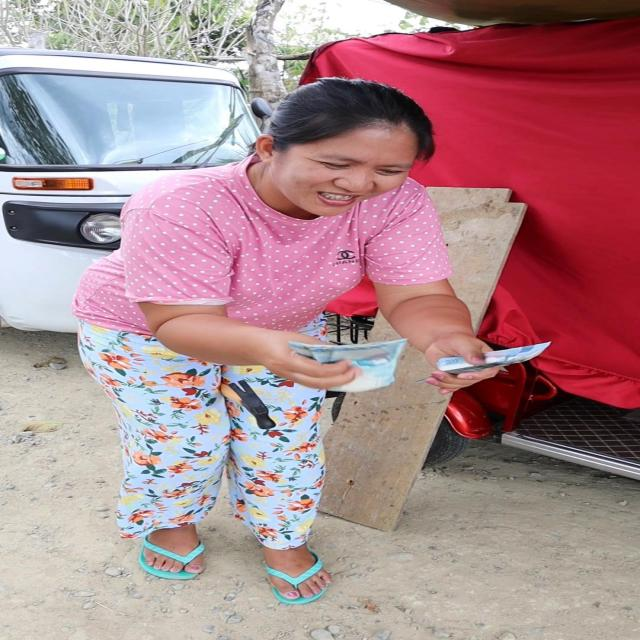hammer: (210, 375, 282, 432)
